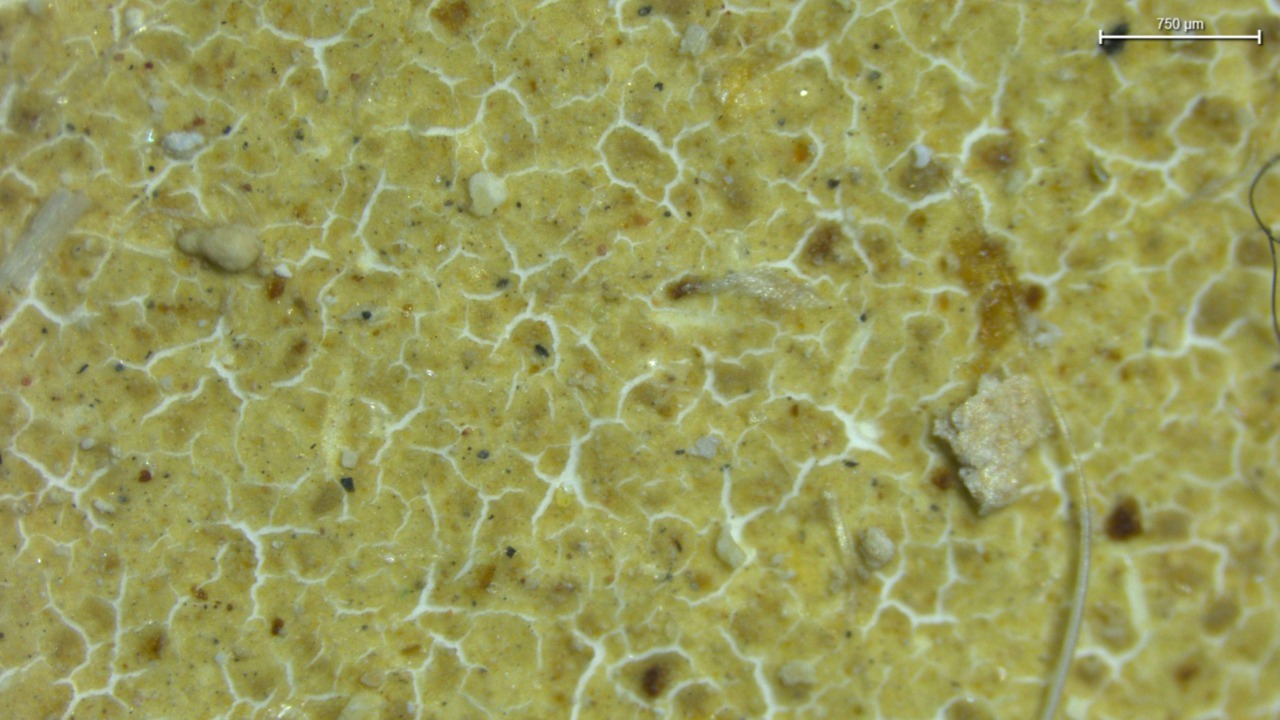microplastic_fragment: (933, 375, 1053, 514), (177, 224, 262, 272), (468, 171, 507, 216)
